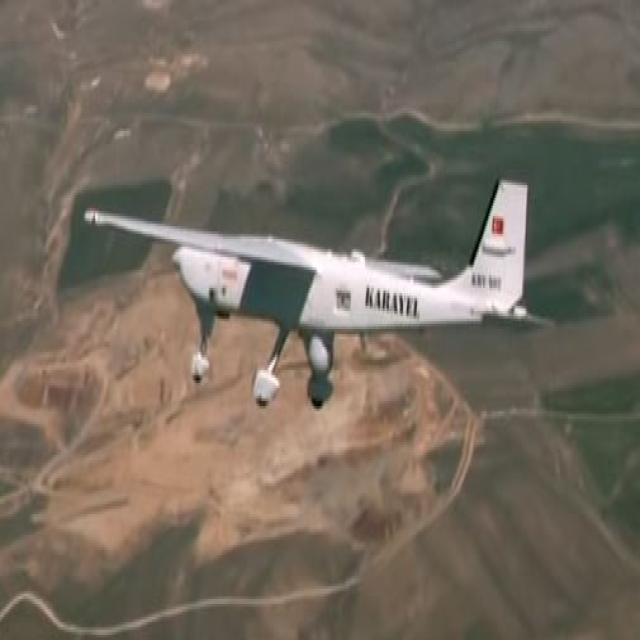iha: (82, 176, 559, 412)
